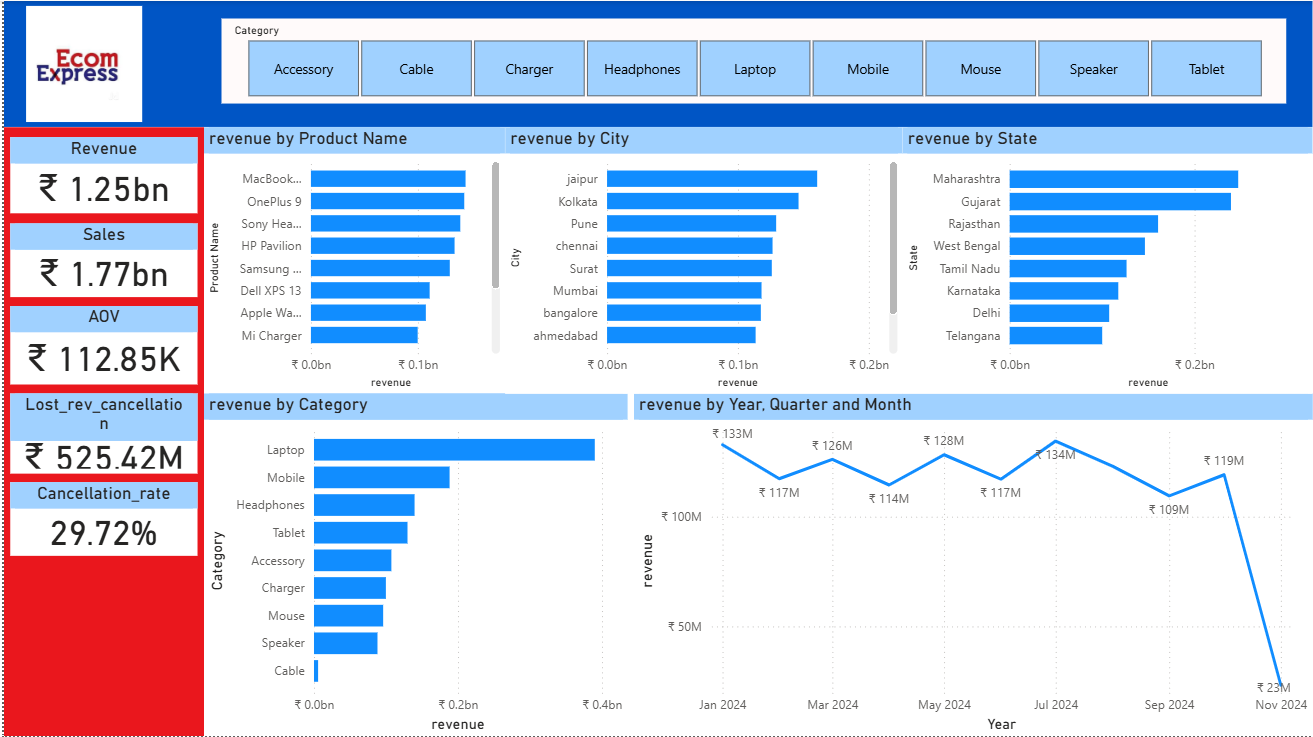

The dashboard page shown, as its layout file describes it:
{"tool":"powerbi","page":{"name":"ecommerce_sale_analysis_dashboard","canvas":[1280,720],"ordinal":0},"visuals":[{"type":"shape","box":[0,0,1280.3,123.5],"z":0},{"type":"shape","box":[0,123.5,195.7,596.7],"z":1000},{"type":"image","box":[0,0,156.5,123.5],"z":2000},{"type":"barChart","fields":{"Y":["Table.revenue"],"Category":["Products.Product Name"]},"box":[195.7,123.5,294.7,260.5],"z":3000},{"type":"barChart","fields":{"Y":["Table.revenue"],"Category":["Products.Category"]},"box":[195.7,384,414.5,336.3],"z":4000},{"type":"lineChart","fields":{"Category":["Orders.Date and time of purchase.Variation.Date Hierarchy.Year","Orders.Date and time of purchase.Variation.Date Hierarchy.Quarter","Orders.Date and time of purchase.Variation.Date Hierarchy.Month","Orders.Date and time of purchase.Variation.Date Hierarchy.Day"],"Y":["Table.revenue"]},"box":[616.3,384,664,336.3],"z":5000},{"type":"barChart","fields":{"Y":["Table.revenue"],"Category":["Customer.City"]},"box":[490.4,123.5,388.9,260.5],"z":6000},{"type":"barChart","fields":{"Y":["Table.revenue"],"Category":["Customer.State"]},"box":[879.2,123.5,401.1,260.5],"z":7000},{"type":"slicer","fields":{"Values":["Products.Category"]},"box":[212.8,17.1,1041.9,83.2],"z":8000},{"type":"card","title":"Revenue","fields":{"Values":["Table.revenue"]},"box":[6.1,133.3,183.4,74.6],"z":9000},{"type":"card","title":"Sales","fields":{"Values":["Table.Sales"]},"box":[6.1,217.7,183.4,72.1],"z":10000},{"type":"card","title":"AOV","fields":{"Values":["Table.AOV"]},"box":[6.1,298.4,183.4,77],"z":11000},{"type":"card","title":"Lost_rev_cancellation","fields":{"Values":["Table.lost_rev_cancellation"]},"box":[6.1,384,183.4,78.3],"z":12000},{"type":"card","title":"Cancellation_rate","fields":{"Values":["Table.cancellation rate"]},"box":[6.1,470.8,183.4,72.1],"z":13000}]}

Visuals, with their boxes in screenshot pixels (x1, y1, x2, y2), scaled from the page's 1280x720 canvas onto the 1313x737 screenshot:
shape: bbox=[0, 0, 1312, 126]
shape: bbox=[0, 126, 201, 736]
image: bbox=[0, 0, 161, 126]
barChart - Table.revenue x Products.Product Name: bbox=[201, 126, 503, 393]
barChart - Table.revenue x Products.Category: bbox=[201, 393, 626, 736]
lineChart - Orders.Date and time of purchase.Variation.Date Hierarchy.Year x Orders.Date and time of purchase.Variation.Date Hierarchy.Quarter: bbox=[632, 393, 1312, 736]
barChart - Table.revenue x Customer.City: bbox=[503, 126, 902, 393]
barChart - Table.revenue x Customer.State: bbox=[902, 126, 1312, 393]
slicer - Products.Category: bbox=[218, 18, 1287, 103]
"Revenue" card: bbox=[6, 136, 194, 213]
"Sales" card: bbox=[6, 223, 194, 297]
"AOV" card: bbox=[6, 305, 194, 384]
"Lost_rev_cancellation" card: bbox=[6, 393, 194, 473]
"Cancellation_rate" card: bbox=[6, 482, 194, 556]
